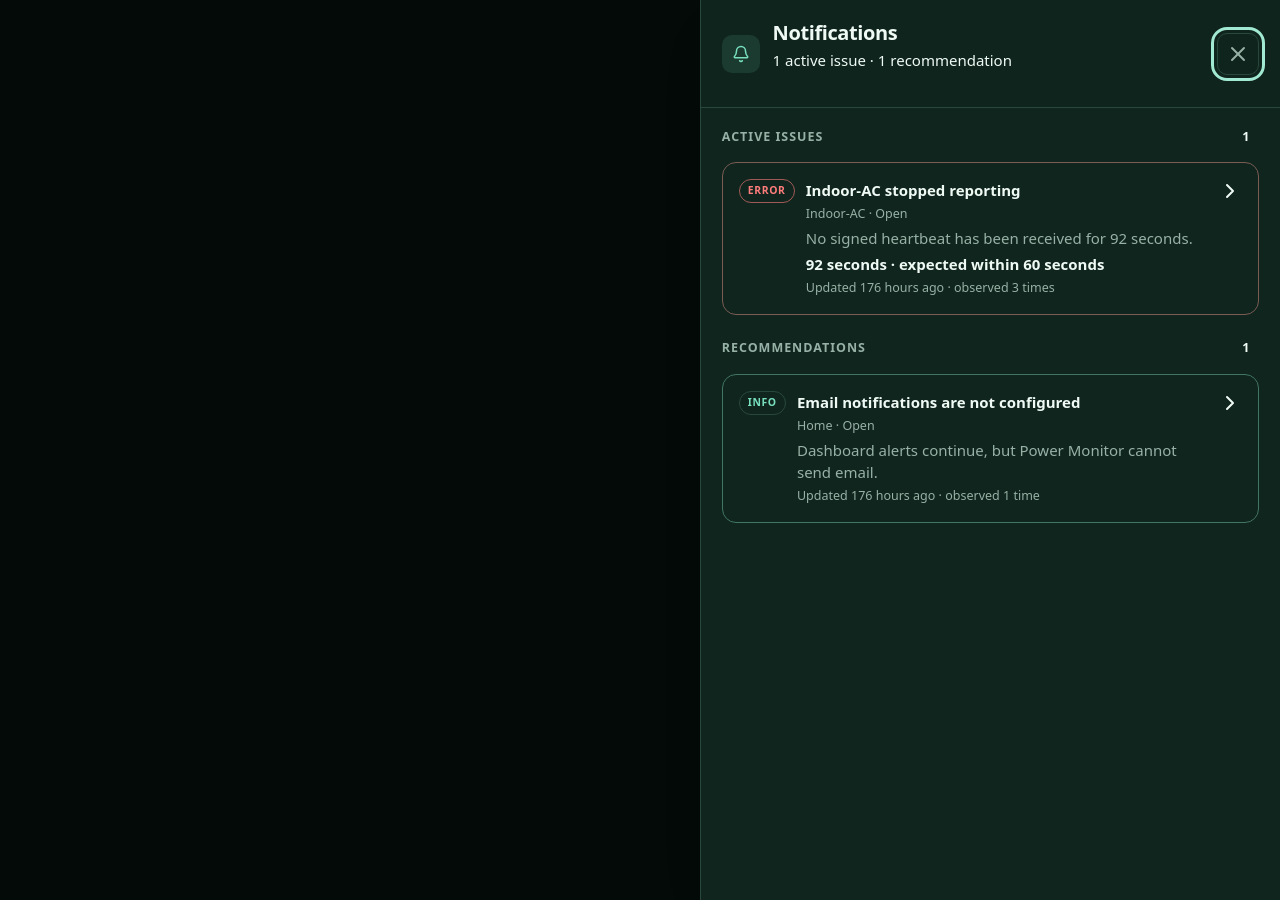
it: detailed notification center › shows prioritized sections and detailed actionable evidence
The width and height of the screenshot is (1280, 900).
Expected: the heading "Active issues 1" is shown, [722,124,1259,150]
Expected: the heading "Recommendations 1" is shown, [722,336,1259,362]
Click the button "Indoor-AC stopped reporting" at (990, 238), box [723,163,1258,314]
(page scrolled)
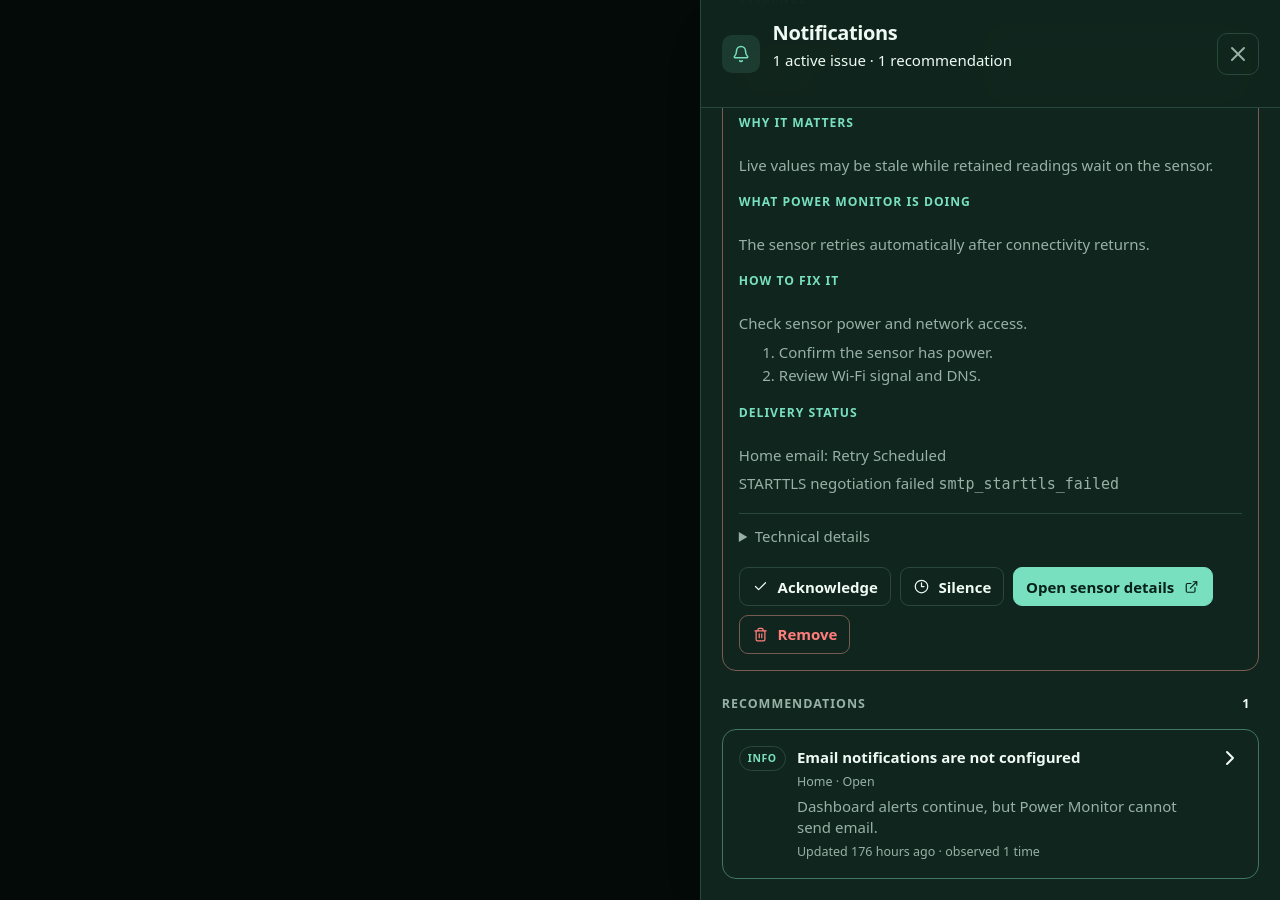
Expected: the text "STARTTLS negotiation failed smtp_starttls_failed" is shown, [739,473,1119,493]
Expected: the button "Acknowledge" is shown, [739,567,891,606]
Expected: the button "Silence" is shown, [900,567,1004,606]
